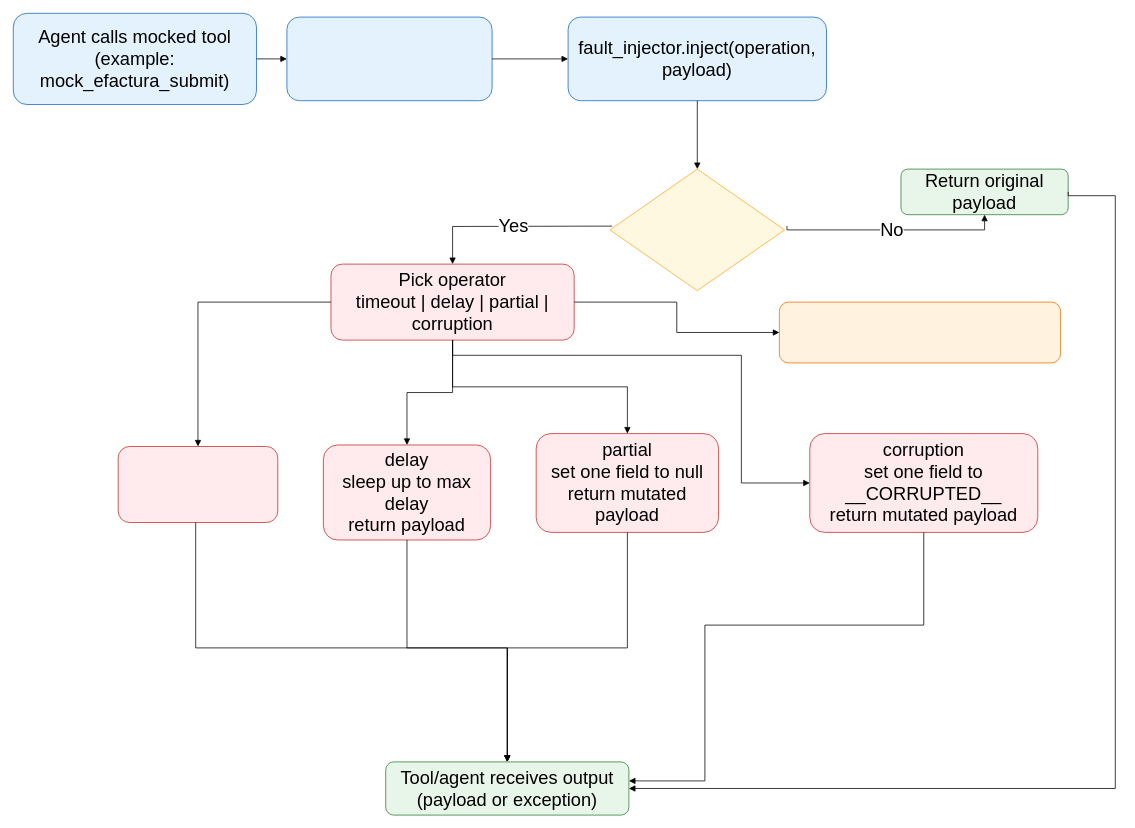
This 1135x828 diagram has some shape labels left out. Each missing label, with the centre of its shape:
Injection enabled at random seed: [697,229]
timeout raise TimeoutError: [197,484]
Tool builds normal mock response: [389,58]
Write warning log L3 fault injected | op=... | type=...: [920,332]
